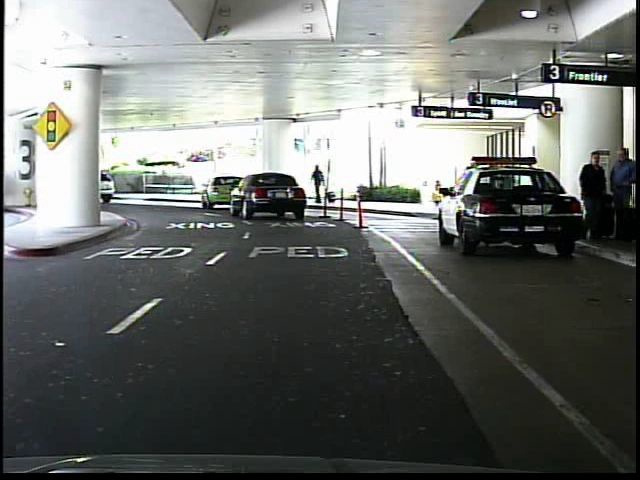person: (578, 145, 610, 245), (605, 143, 634, 244), (312, 161, 331, 205)
